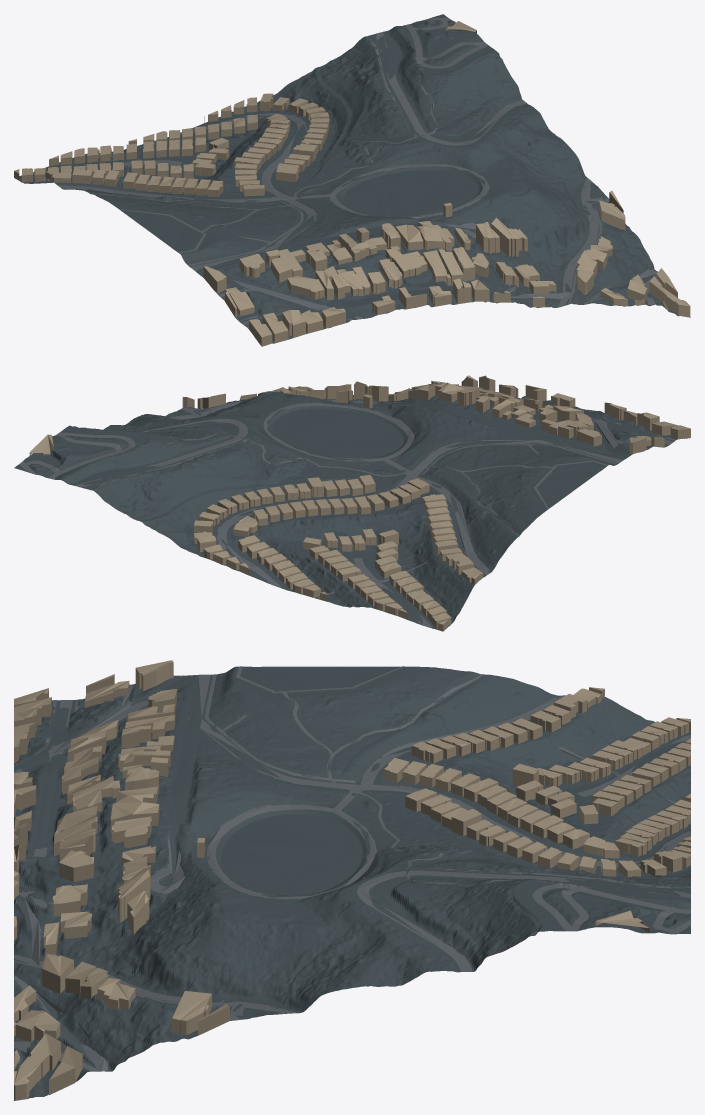
Rendered from epsg26910-1428-10882.lod0.glb.
3 renders of one model, top to bottom at view 1: azimuth 30°, elevation 25°; view 2: azimuth 150°, elevation 25°; view 3: azimuth 270°, elevation 25°, orthographic. The views are drawn at different scales.
Visible parts, largest first — view 1: epsg26910-1428-10882-lod0; view 2: epsg26910-1428-10882-lod0; view 3: epsg26910-1428-10882-lod0.
Part boxes in pixels (x1=…): epsg26910-1428-10882-lod0: x1=14, y1=14, x2=690, y2=346; epsg26910-1428-10882-lod0: x1=14, y1=375, x2=690, y2=631; epsg26910-1428-10882-lod0: x1=14, y1=660, x2=690, y2=1100.
Bounding box in the file's own units: 384 × 112 × 384.
